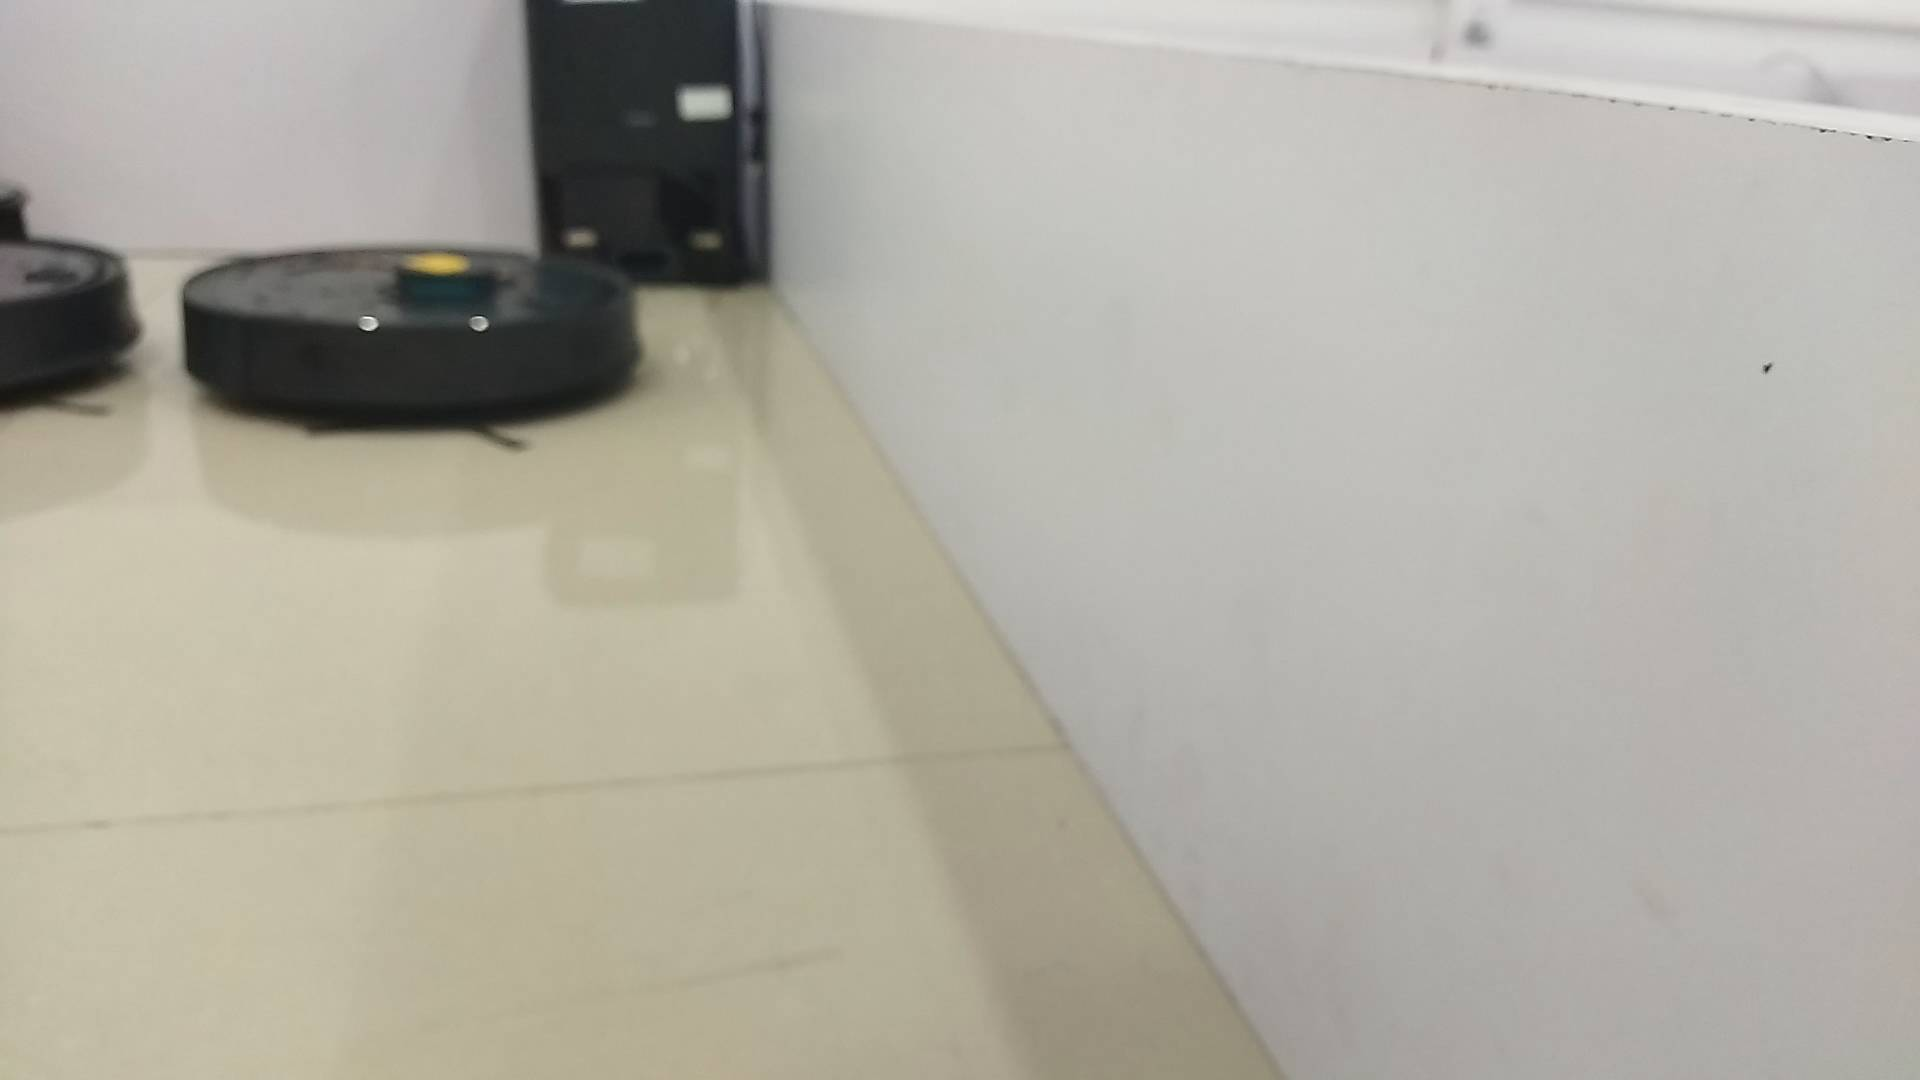dust collecting barrel: (516, 3, 775, 284)
